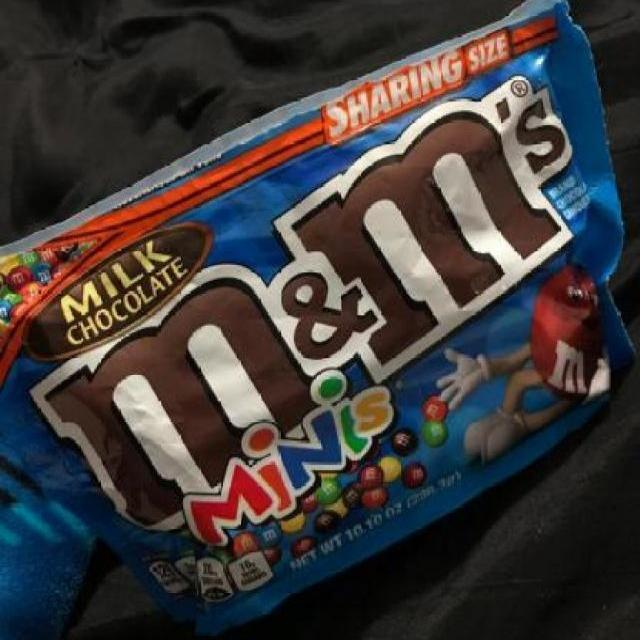Dry: (60, 76, 635, 552), (360, 2, 608, 82), (125, 555, 368, 635), (0, 233, 58, 494)
